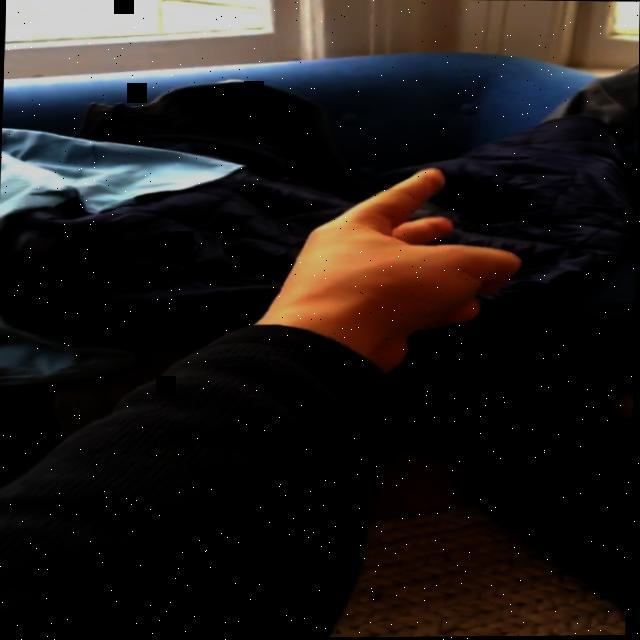Scissors: (278, 162, 525, 344)
